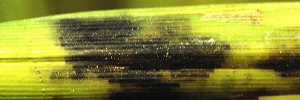RiceSheathBrownRot: (15, 10, 241, 95), (248, 46, 300, 100)
